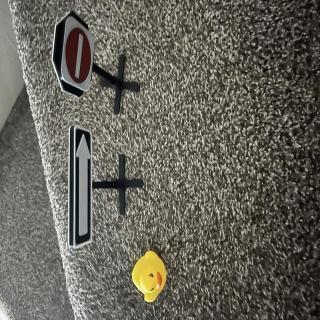duck_regular: (131, 251, 172, 304)
sign_noentry: (60, 17, 98, 95)
sign_oneway_right: (72, 125, 95, 252)
